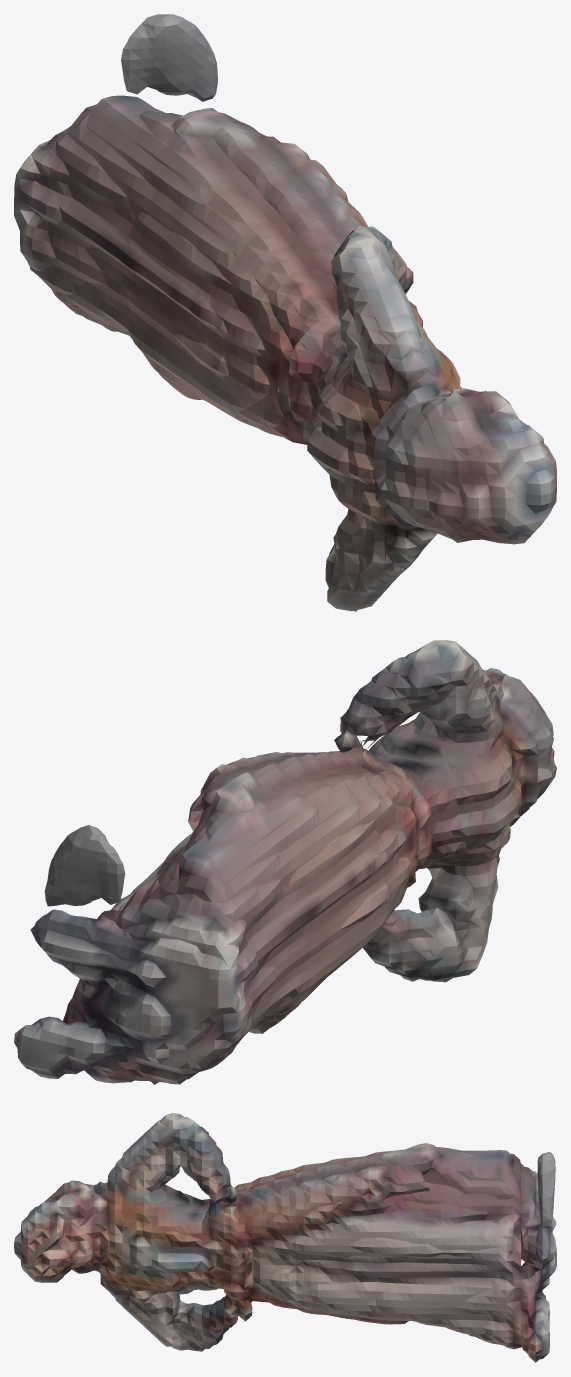
The model's file is modern_merchant_f_0.glb.
The picture shows the model from 3 angles, top to bottom: view 1: azimuth 30°, elevation 25°; view 2: azimuth 150°, elevation 25°; view 3: azimuth 270°, elevation 25°; orthographic projection. The views are drawn at different scales.
Visible parts, largest first — view 1: world; view 2: world; view 3: world.
Boxes of the visible parts, box(x1,y1,x2,y2) form: world: box(14, 14, 556, 611); world: box(14, 640, 556, 1084); world: box(14, 1113, 556, 1362).
Bounding box in the file's own units: 0.3415 × 0.4892 × 1.03.
